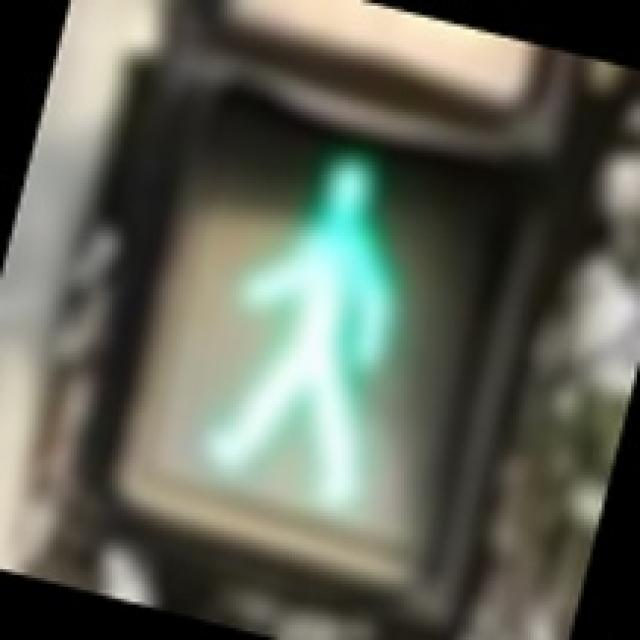geen-crossing: (132, 76, 504, 558)
